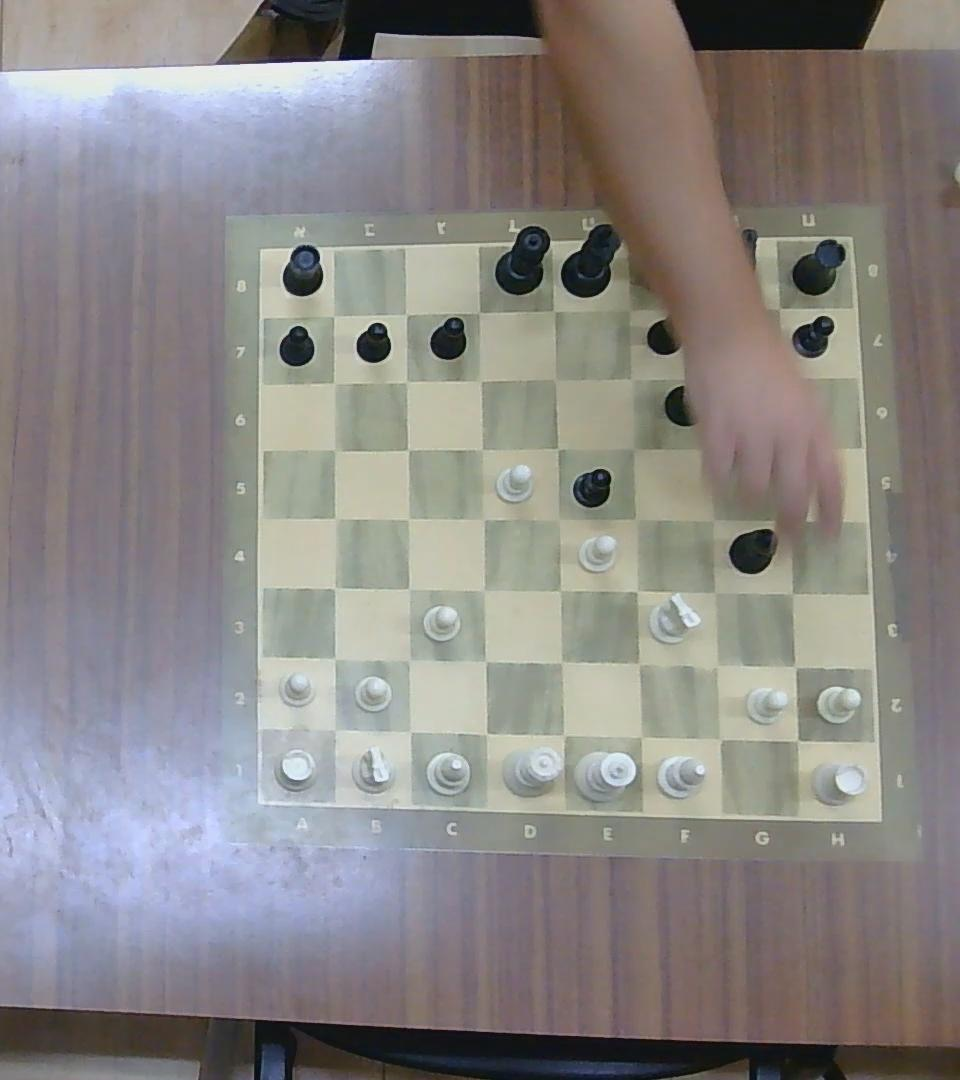xcorner: (623, 644, 663, 675), (316, 637, 352, 668), (702, 644, 732, 680), (543, 575, 577, 604), (701, 725, 736, 752), (464, 573, 496, 602), (774, 506, 809, 532), (774, 577, 808, 603), (320, 433, 350, 462), (398, 716, 427, 746), (472, 716, 502, 745), (618, 504, 649, 532), (321, 714, 352, 742), (390, 506, 426, 530), (696, 576, 729, 602), (700, 505, 730, 533), (470, 649, 504, 673), (323, 371, 353, 398), (784, 720, 811, 750), (466, 366, 497, 392), (319, 502, 348, 529), (785, 656, 812, 684), (547, 720, 576, 746), (614, 365, 644, 390), (544, 295, 570, 323), (393, 436, 423, 460), (610, 300, 641, 323), (392, 573, 421, 597), (462, 300, 492, 323), (544, 506, 570, 532), (320, 573, 348, 597), (765, 299, 796, 320), (472, 506, 499, 530), (626, 573, 650, 600), (715, 435, 744, 457), (392, 370, 418, 394), (546, 649, 574, 671), (396, 647, 421, 671), (470, 438, 497, 460), (395, 303, 420, 326), (541, 435, 566, 458), (690, 303, 716, 324), (709, 373, 735, 394), (629, 720, 650, 746), (543, 366, 566, 389), (778, 442, 800, 464), (620, 436, 640, 460), (323, 307, 341, 328), (776, 374, 797, 392)
